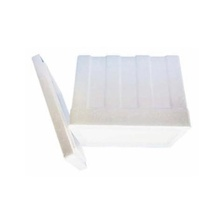foam_box: (26, 46, 198, 176), (64, 51, 194, 152), (26, 46, 90, 176)
